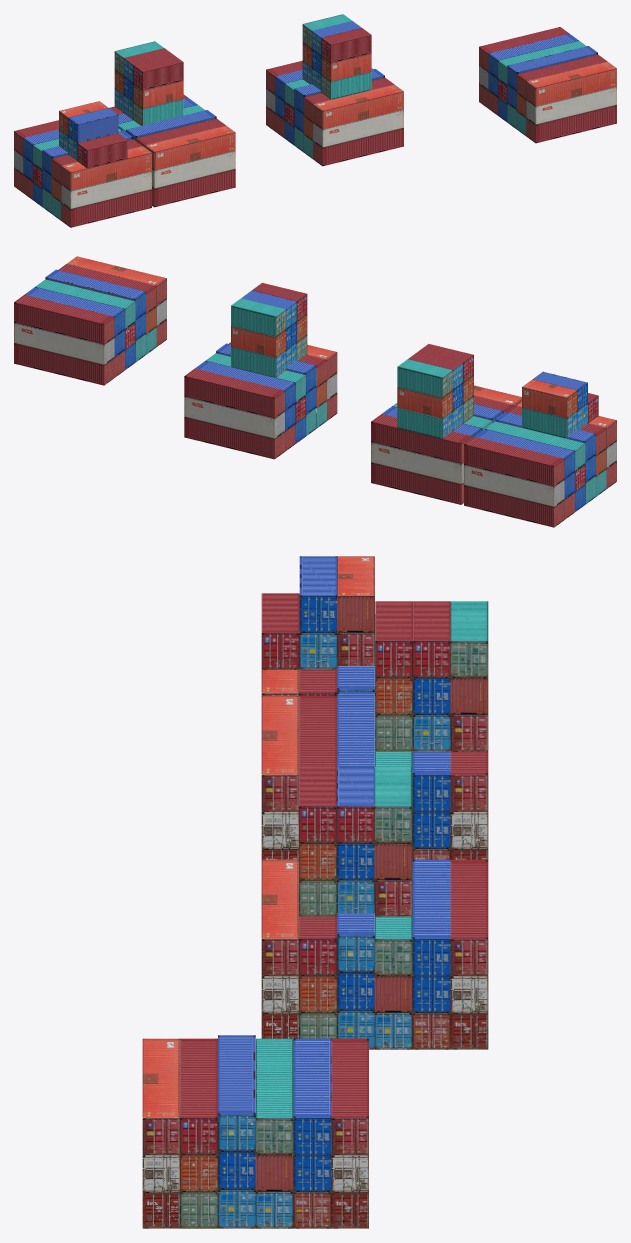
The picture shows the model from 3 angles, top to bottom: view 1: azimuth 30°, elevation 25°; view 2: azimuth 150°, elevation 25°; view 3: azimuth 270°, elevation 25°; orthographic projection. The views are drawn at different scales.
Parts seen in each view (by area): view 1: DN112_c?m_container_002.001; view 2: DN112_c?m_container_002.001; view 3: DN112_c?m_container_002.001.
Part boxes in pixels (bbox=[...]): DN112_c?m_container_002.001: bbox=[14, 14, 616, 227]; DN112_c?m_container_002.001: bbox=[14, 256, 616, 527]; DN112_c?m_container_002.001: bbox=[142, 556, 488, 1228].
Size of the model in its own units: 76.28 by 15.6 by 22.11.
1 material, 1 textured.
